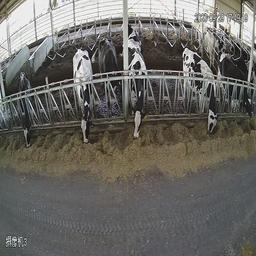cow: (182, 49, 216, 136), (127, 39, 150, 141), (219, 54, 255, 119), (74, 48, 96, 140), (14, 73, 37, 151), (99, 37, 121, 114), (190, 16, 216, 54)
